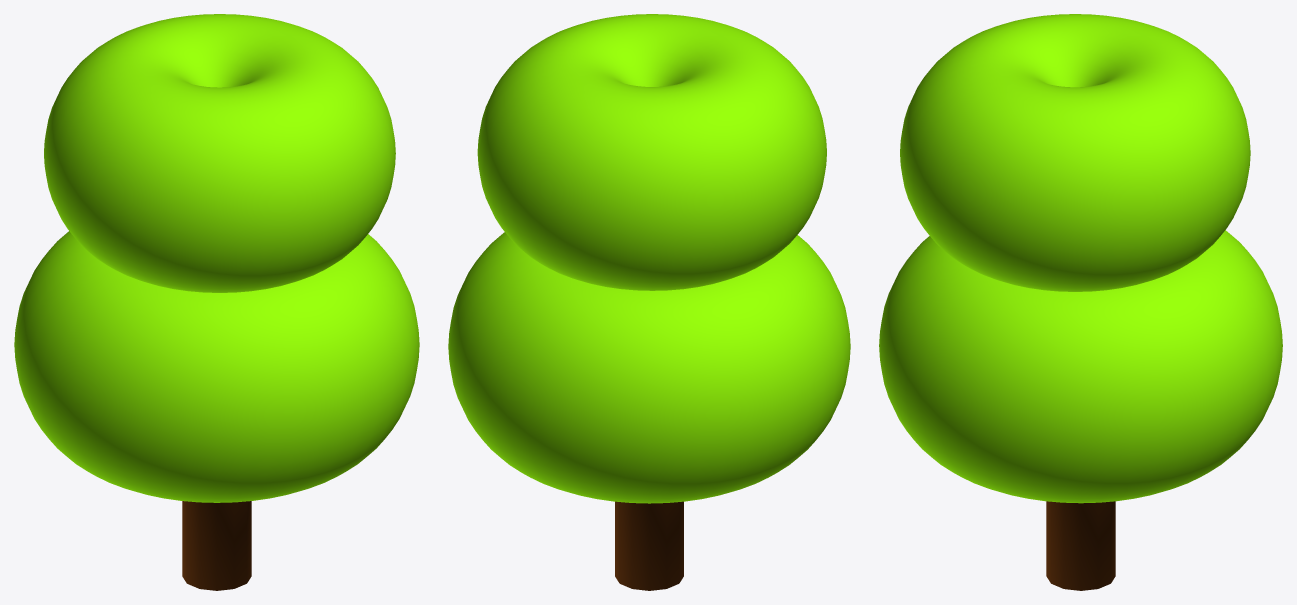
The model's file is l_drzewo_duze_2.fbx.
The picture shows the model from 3 angles, left to right: view 1: azimuth 30°, elevation 25°; view 2: azimuth 150°, elevation 25°; view 3: azimuth 270°, elevation 25°; orthographic projection.
Parts seen in each view (by area): view 1: Torus.001; view 2: Torus.001; view 3: Torus.001.
Part boxes in pixels (bbox=[...]): Torus.001: bbox=[14, 14, 419, 590]; Torus.001: bbox=[448, 14, 850, 590]; Torus.001: bbox=[879, 14, 1282, 590].
Size of the model in its own units: 768 by 1088 by 768.
